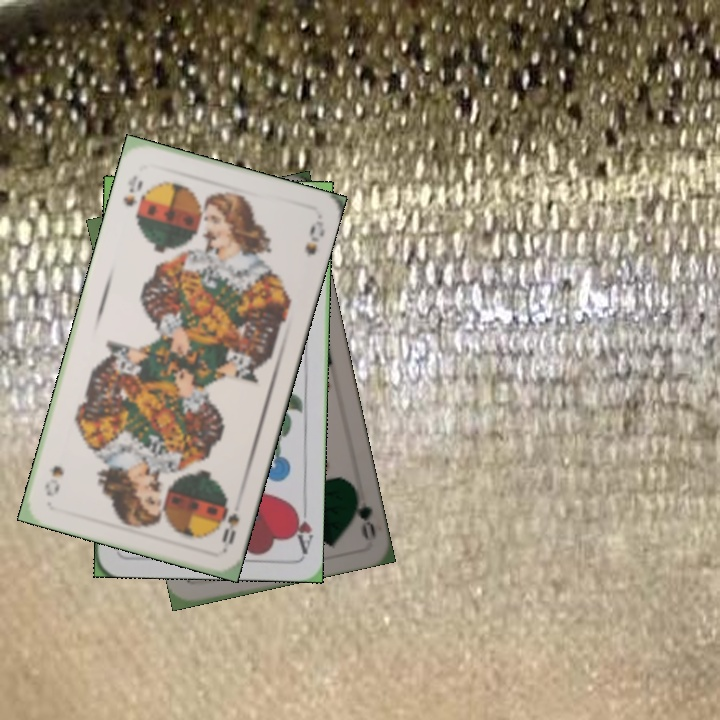GO: (346, 481, 378, 541)
HA: (288, 496, 315, 555)
SO: (215, 493, 242, 552), (119, 171, 146, 221)
